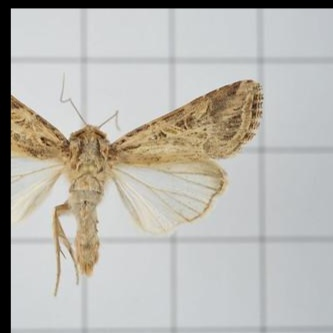Spodoptera litura: (10, 72, 264, 297)
